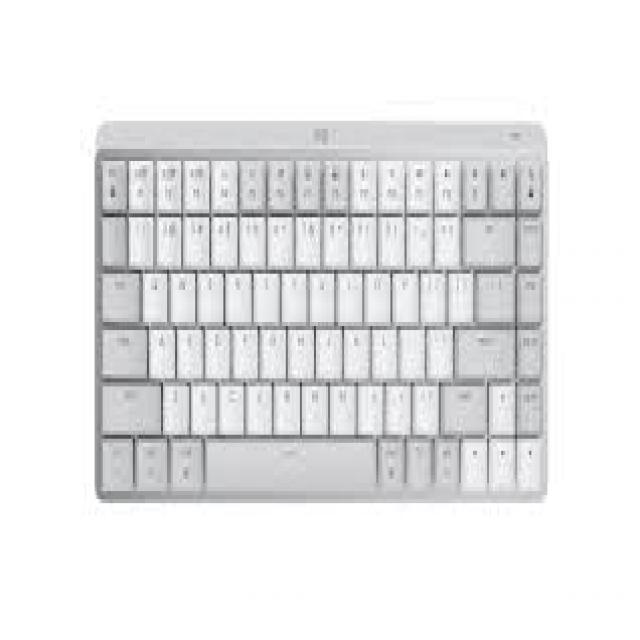others: (89, 101, 556, 535)
